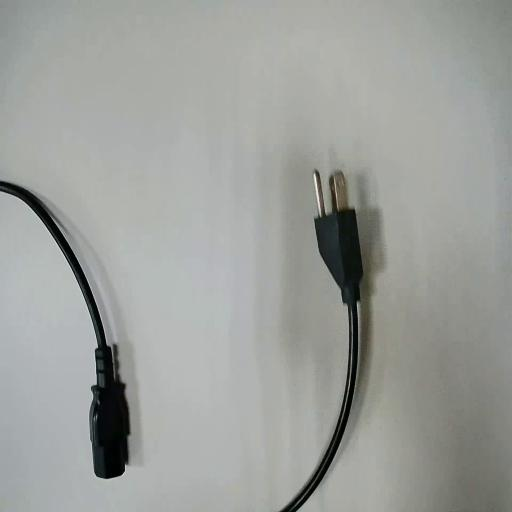wire: (282, 192, 363, 511)
